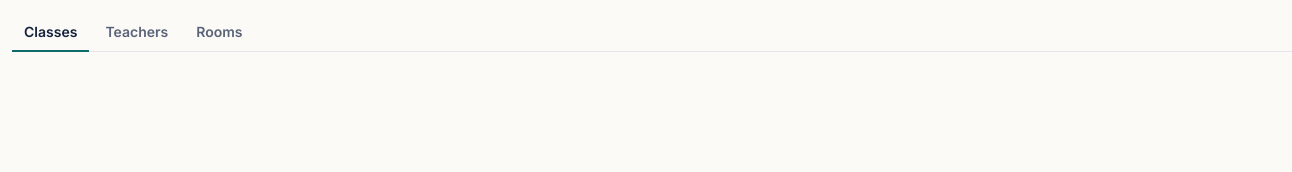
Test: Tabs › selects on click
Click the tab "Rooms". click: click(219, 32)
box: [184,12,254,52]
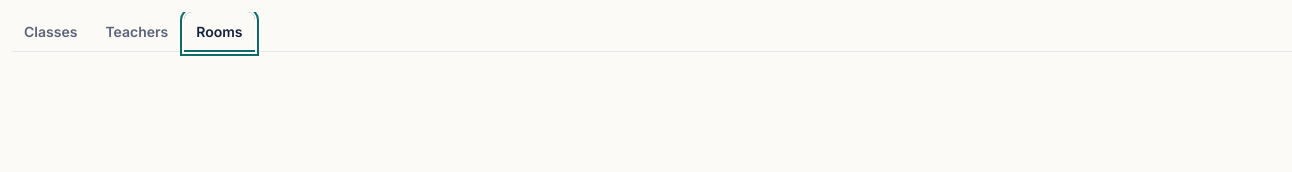
Now the tab "Rooms" is selected, box [184,12,254,52]
